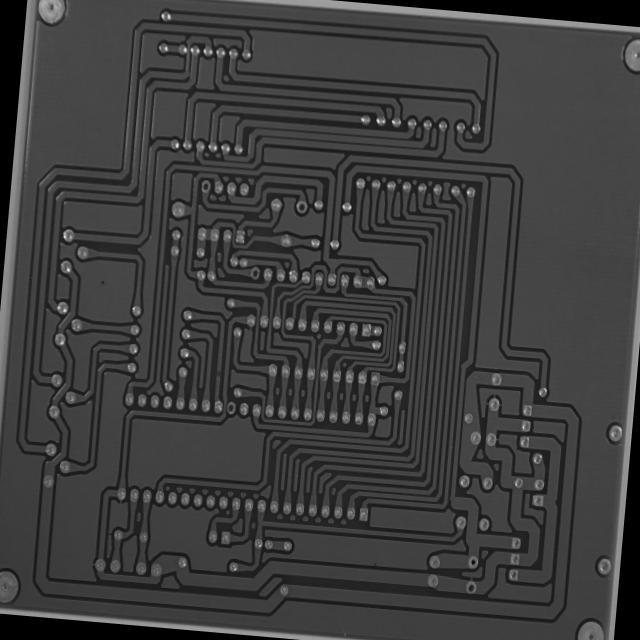missing_hole: (294, 197, 310, 217), (198, 177, 214, 195), (247, 264, 263, 282), (224, 398, 238, 416), (464, 578, 478, 596)
